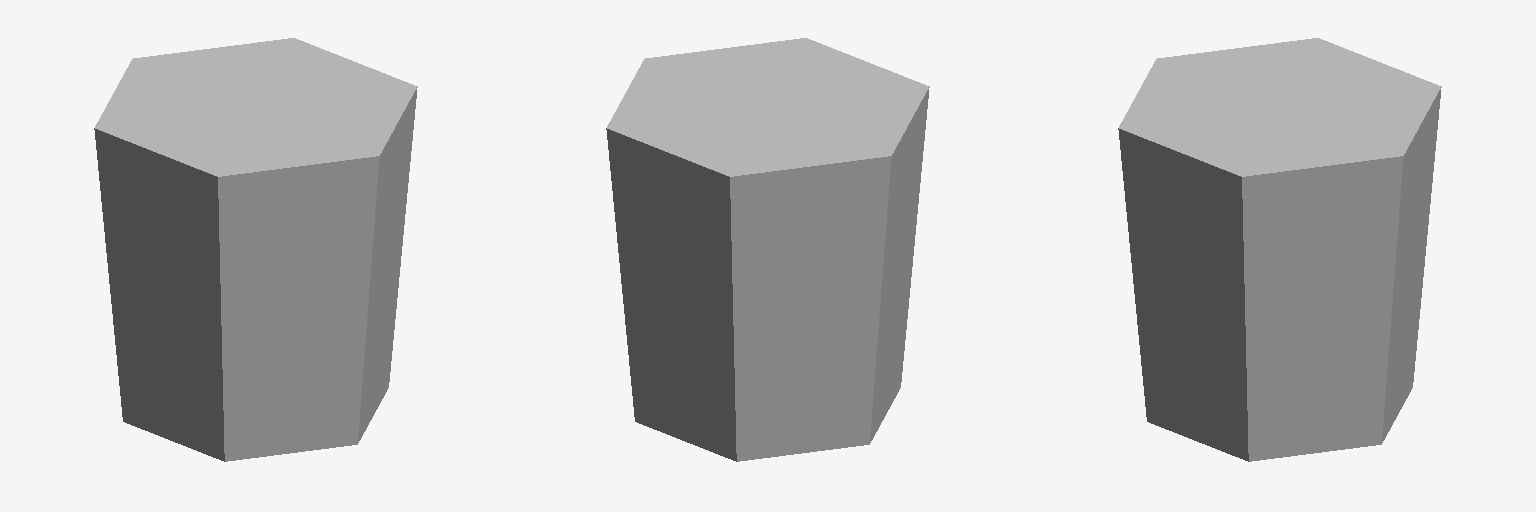
The model's file is pointL.obj.
3 views of the same model, side by side, from view 1: azimuth 30°, elevation 25°; view 2: azimuth 150°, elevation 25°; view 3: azimuth 270°, elevation 25° (orthographic).
Visible parts, largest first — view 1: Cube.170; view 2: Cube.170; view 3: Cube.170.
Part boxes in pixels (bbox=[...]): Cube.170: bbox=[94, 38, 417, 461]; Cube.170: bbox=[606, 38, 929, 461]; Cube.170: bbox=[1118, 38, 1441, 461].
Bounding box in the file's own units: 0.1811 × 0.1803 × 0.1777.